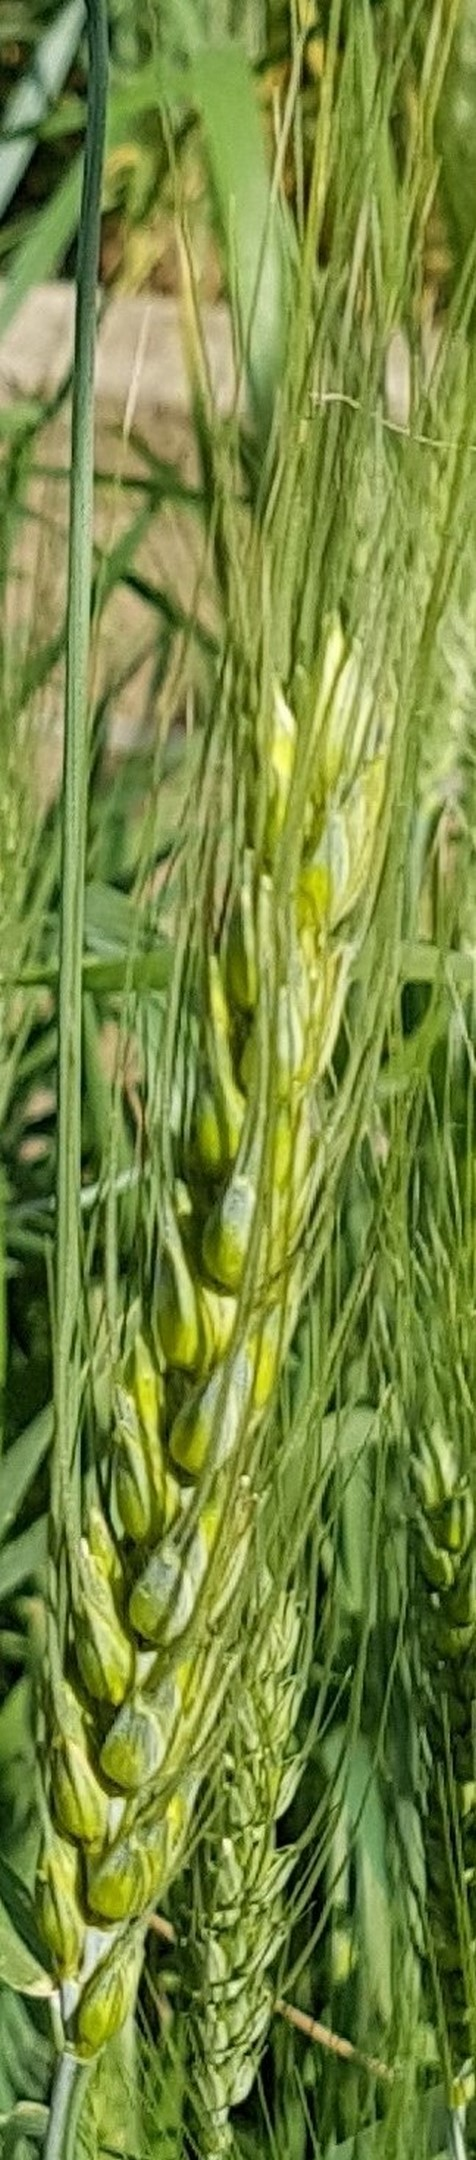Healthy Wheat: (34, 623, 418, 1969)
